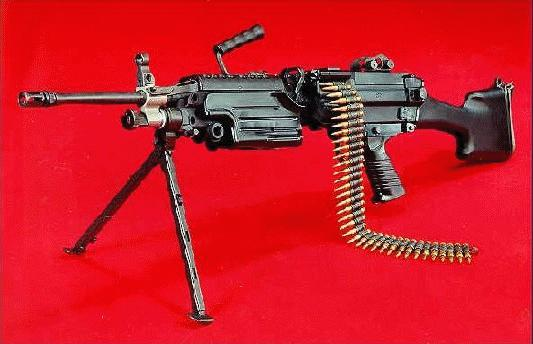rifle: (14, 26, 523, 319)
